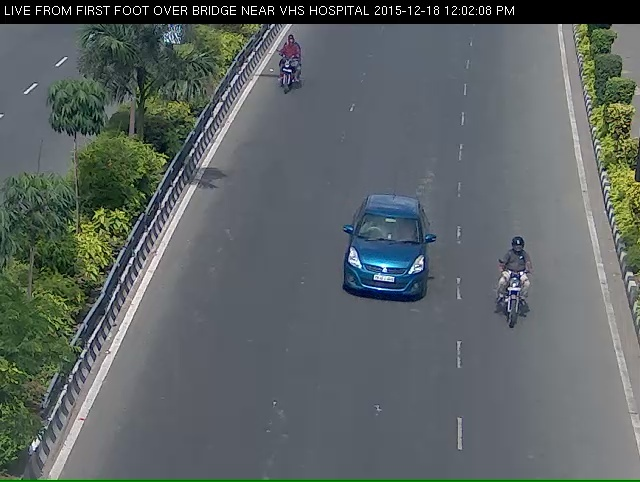Car: (331, 207, 445, 342)
Person: (500, 253, 546, 350), (258, 36, 304, 102)
